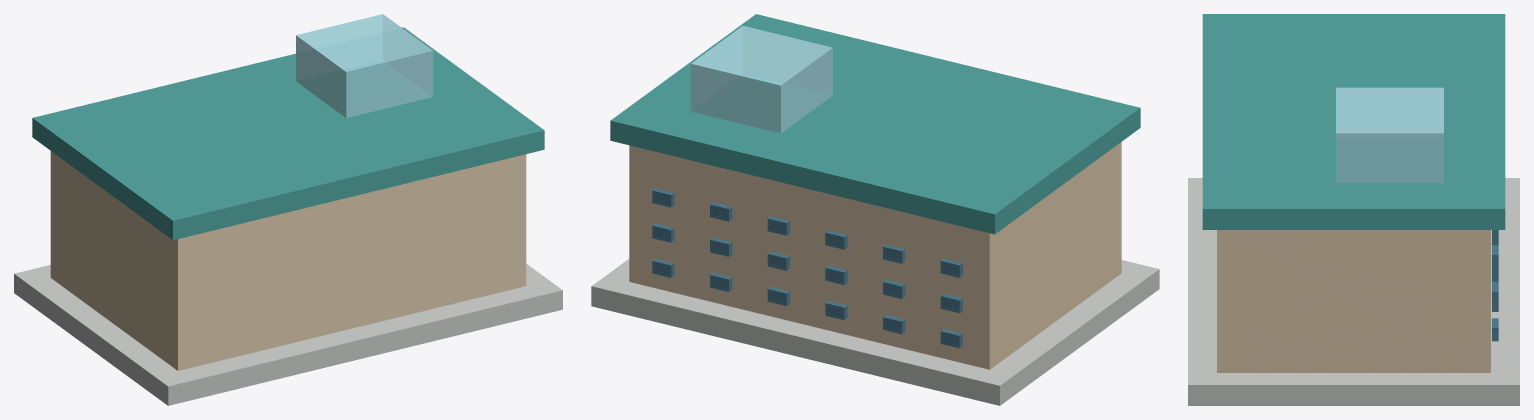
Rendered from voxel-shanghai-lowrise-block.gltf.
3 renders of one model, left to right at view 1: azimuth 30°, elevation 25°; view 2: azimuth 150°, elevation 25°; view 3: azimuth 270°, elevation 25°, orthographic. The views are drawn at different scales.
Bounding box in the file's own units: 3.4 × 1.84 × 2.3.
